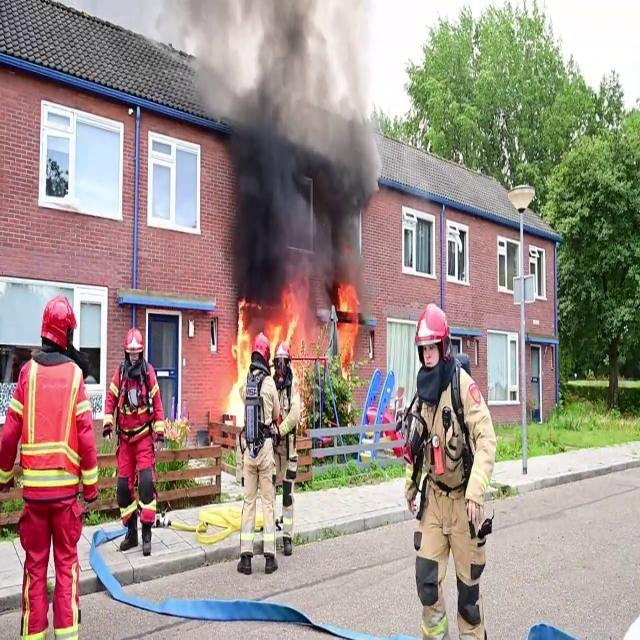Fire: (256, 284, 364, 366), (222, 303, 252, 428), (334, 278, 362, 371)
Smoke: (204, 0, 385, 292)
